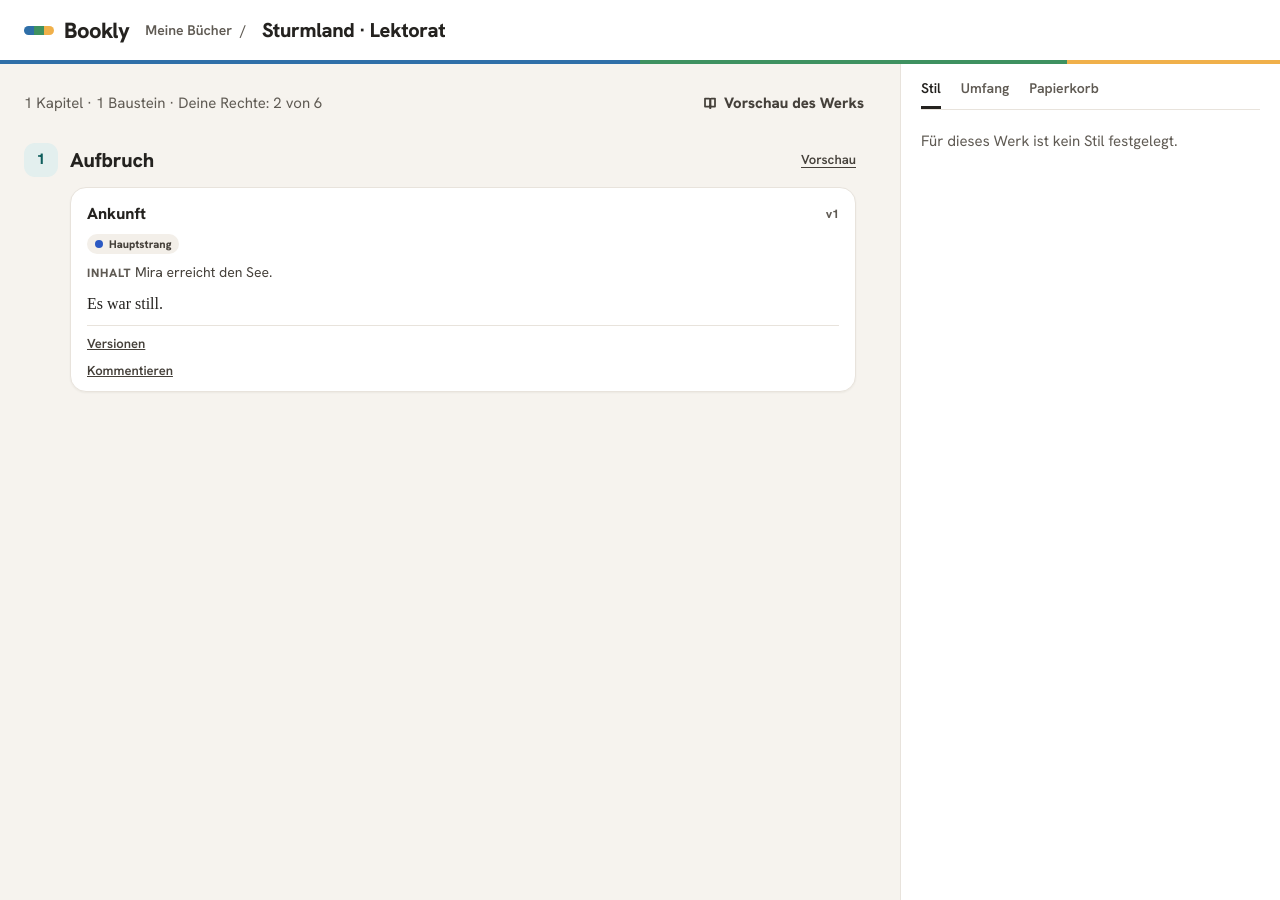
ManuscriptPage › comments are written with the comment right
Click the button "Kommentieren" at (130, 371), box top-left (87, 361), bottom-right (173, 381)
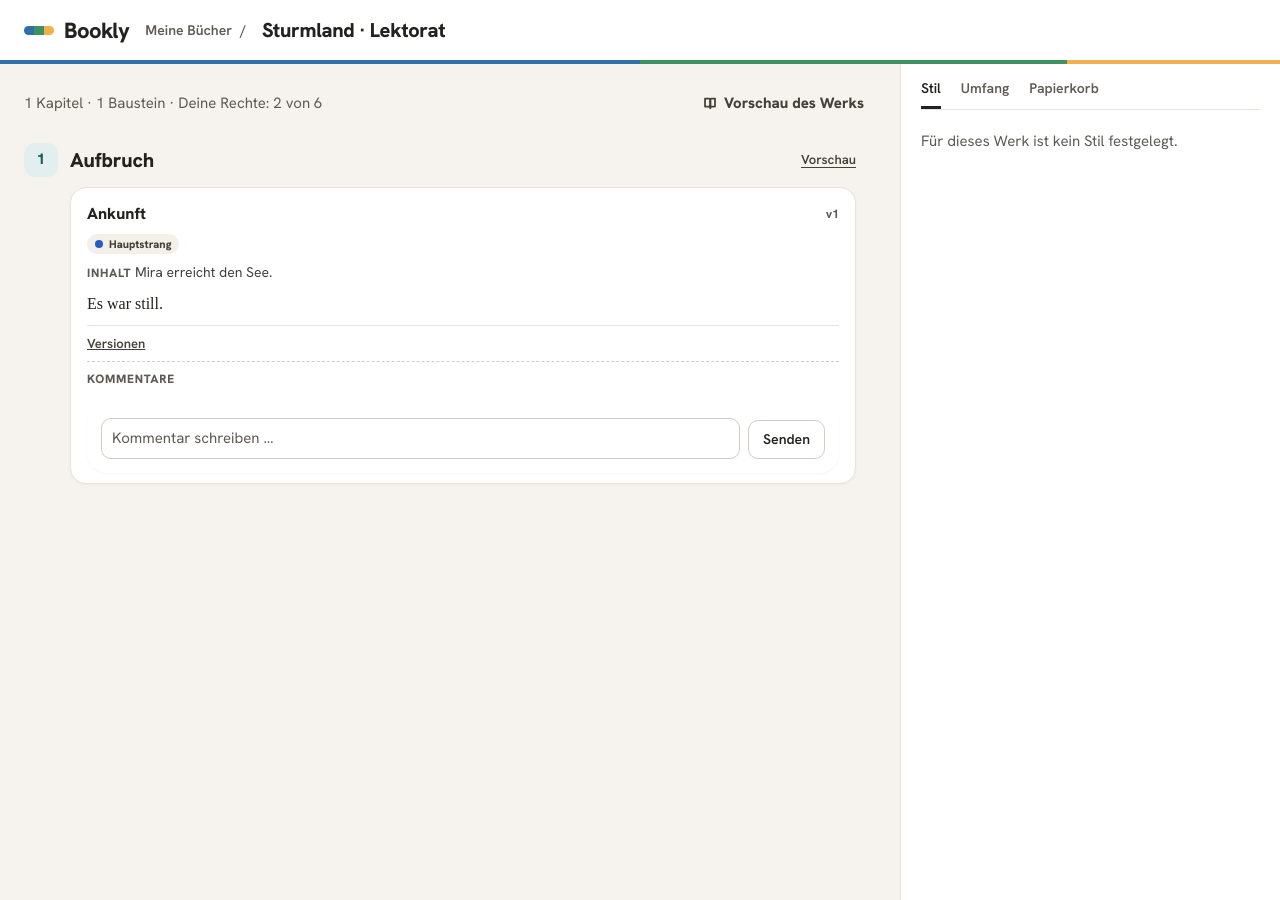
Type "Schöner Einstieg" into the field named "Neuer Kommentar" at (421, 439), box top-left (101, 418), bottom-right (740, 459)
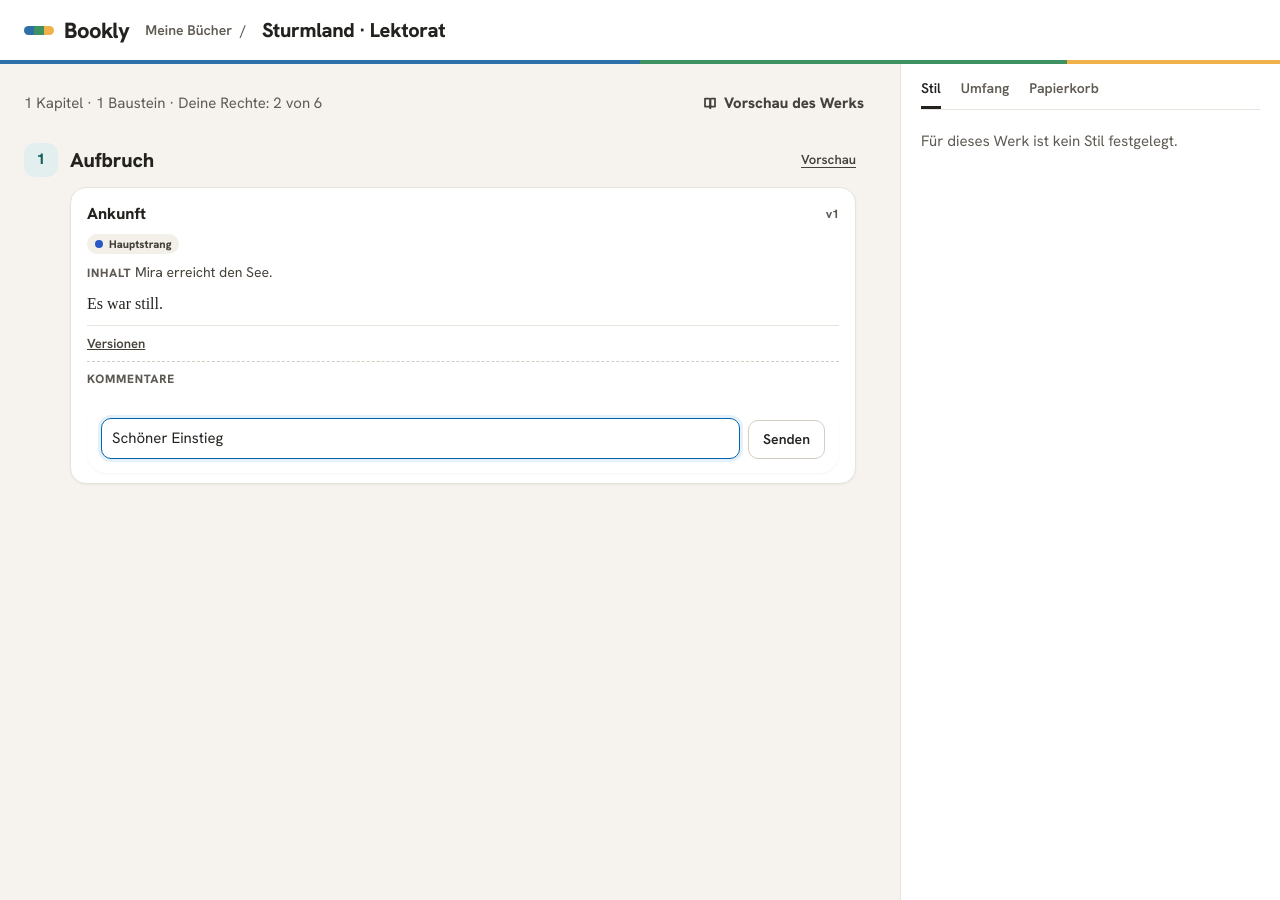
Click the button "Senden" at (787, 439), box top-left (748, 420), bottom-right (825, 459)
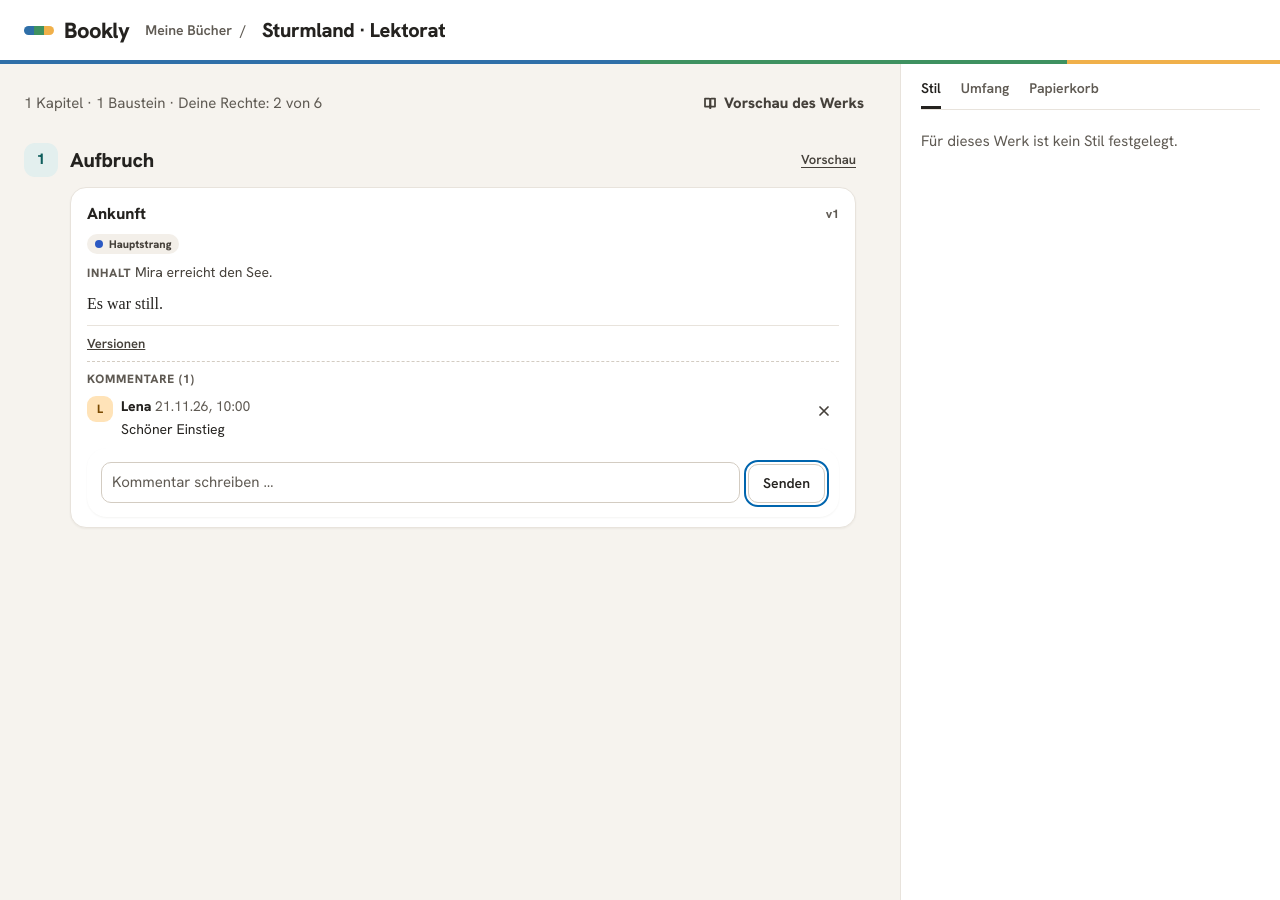
Expected: the text "Schöner Einstieg" is shown, top-left (121, 420), bottom-right (225, 438)
